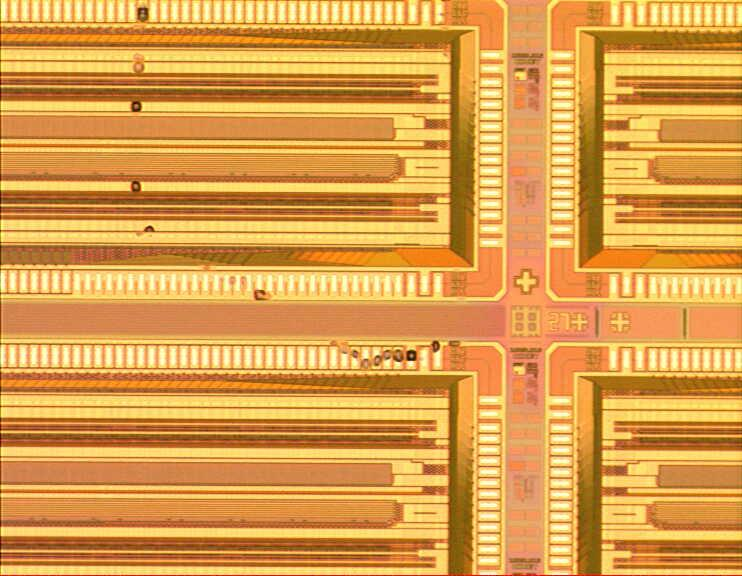PO CONTAMINATION: (121, 1, 473, 379)
